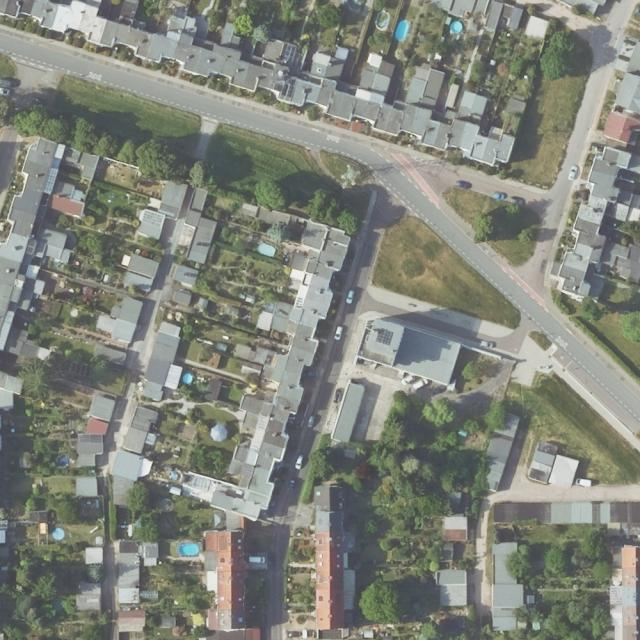PV: (376, 327, 394, 345), (280, 83, 294, 96)
